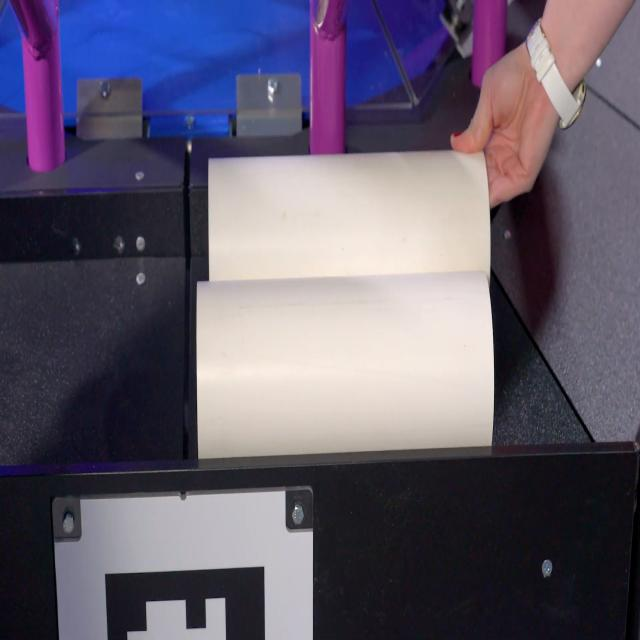Coral: (195, 270, 495, 459), (206, 148, 492, 280)
